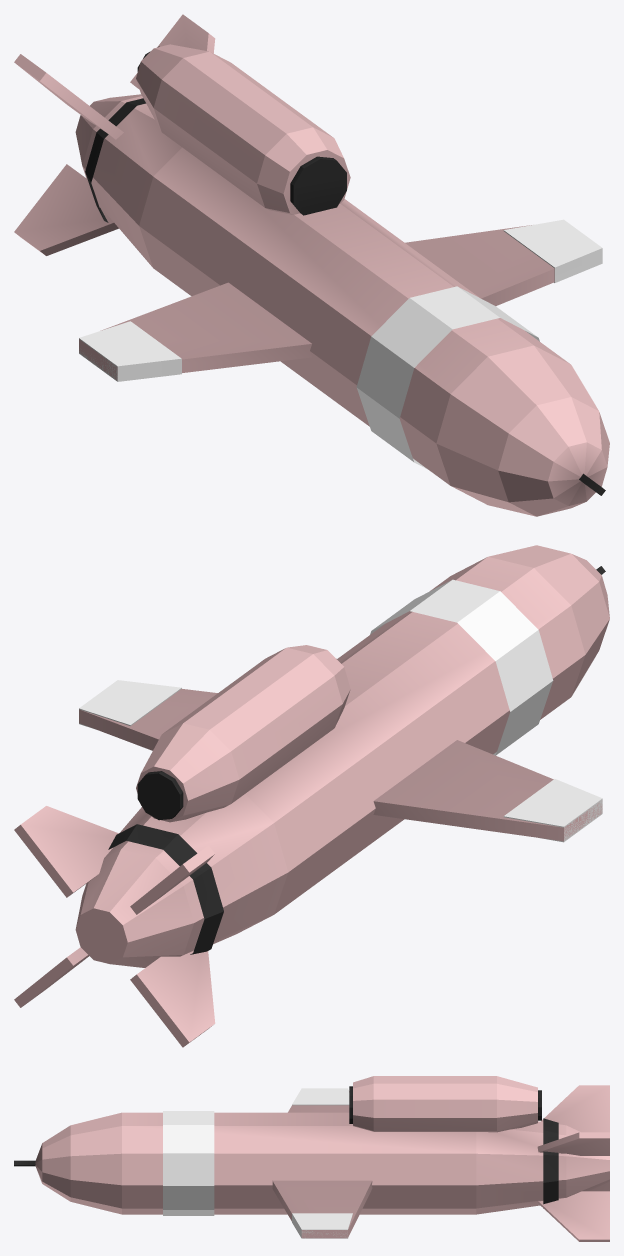
File: ua-flamingo.glb
The picture shows the model from 3 angles, top to bottom: view 1: azimuth 30°, elevation 25°; view 2: azimuth 150°, elevation 25°; view 3: azimuth 270°, elevation 25°; orthographic projection. The views are drawn at different scales.
Parts seen in each view (by area): view 1: ua-flamingo; view 2: ua-flamingo; view 3: ua-flamingo.
Part boxes in pixels (x1=…): ua-flamingo: x1=14, y1=14, x2=609, y2=516; ua-flamingo: x1=14, y1=545, x2=609, y2=1047; ua-flamingo: x1=14, y1=1076, x2=609, y2=1241.
Size of the model in its own units: 1.3 by 0.5945 by 2.32.
